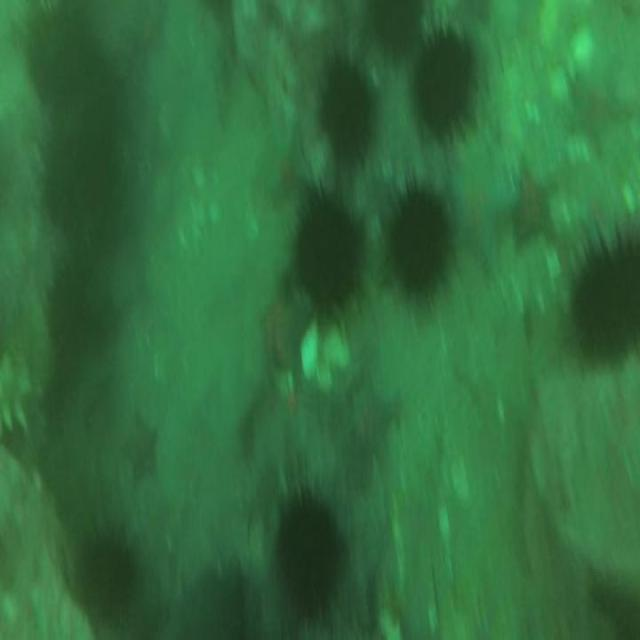echinus: (275, 494, 342, 612), (574, 243, 640, 359), (294, 204, 361, 302), (46, 133, 108, 234), (29, 6, 91, 104), (393, 190, 449, 294), (44, 259, 100, 357), (415, 27, 470, 126), (321, 63, 372, 158), (82, 532, 132, 614), (370, 0, 426, 51)
starfish: (451, 152, 514, 267), (510, 162, 558, 246), (261, 126, 313, 198), (349, 384, 394, 458), (120, 414, 156, 479)
